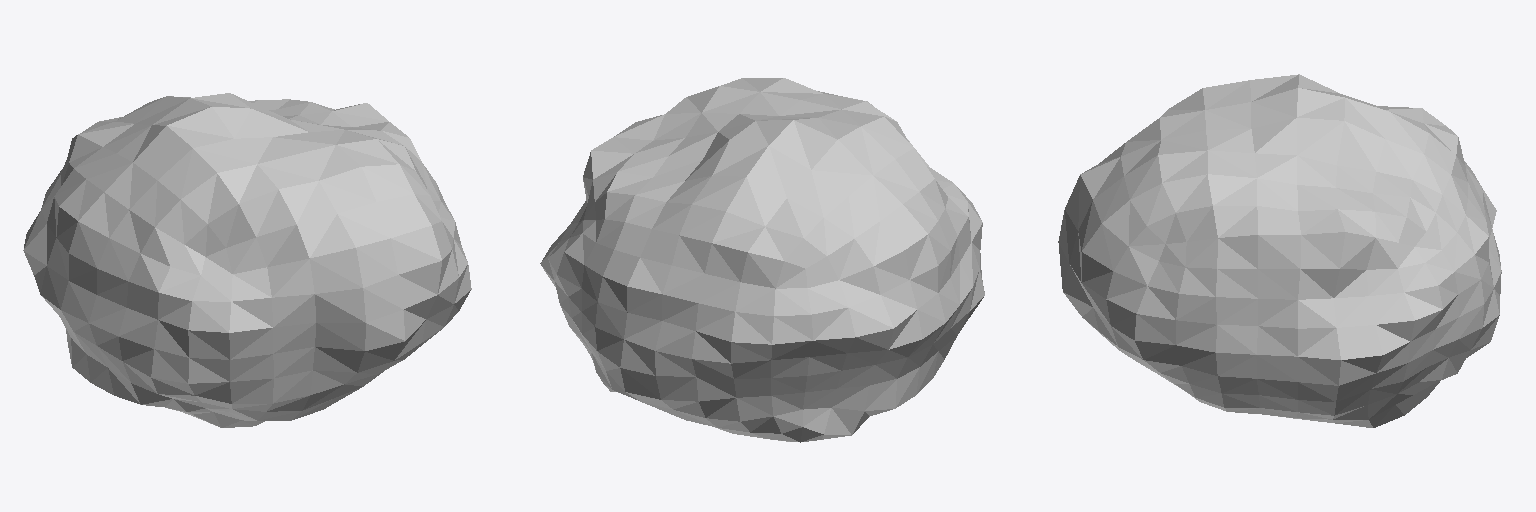
The model's file is rocher.obj.
3 renders of one model, left to right at view 1: azimuth 30°, elevation 25°; view 2: azimuth 150°, elevation 25°; view 3: azimuth 270°, elevation 25°, orthographic.
Parts seen in each view (by area): view 1: Cube_Cube.005; view 2: Cube_Cube.005; view 3: Cube_Cube.005.
Boxes of the visible parts, x1=… form: Cube_Cube.005: x1=23, y1=93, x2=471, y2=427; Cube_Cube.005: x1=540, y1=78, x2=984, y2=442; Cube_Cube.005: x1=1058, y1=74, x2=1501, y2=427.
Size of the model in its own units: 1.94 by 1.5 by 1.99.